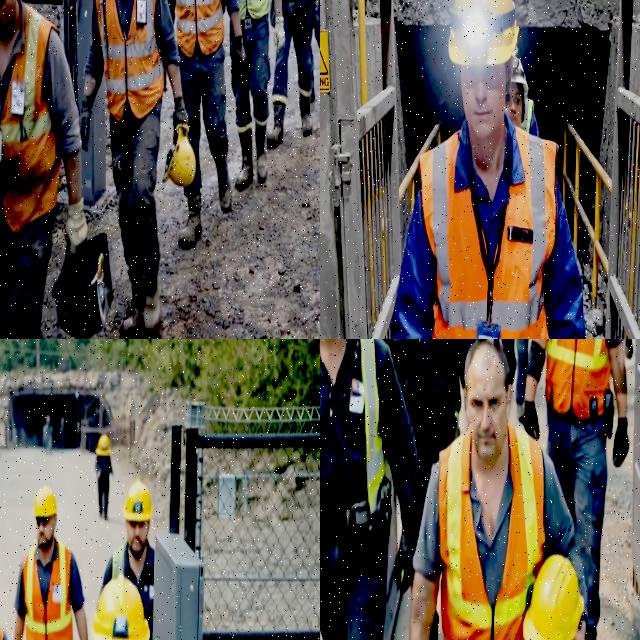Vest: (438, 424, 544, 639), (0, 3, 60, 233), (492, 129, 556, 338), (95, 0, 163, 121), (546, 339, 609, 419), (23, 541, 72, 639), (360, 339, 386, 513), (175, 0, 223, 57), (238, 0, 268, 19), (0, 626, 3, 639), (290, 0, 294, 0)
Worker: (392, 0, 585, 338), (409, 340, 585, 639), (81, 0, 187, 338), (523, 339, 629, 639), (320, 339, 419, 639), (0, 0, 87, 338), (168, 0, 245, 247), (384, 339, 472, 512), (14, 486, 87, 639), (101, 480, 154, 630), (231, 0, 270, 190), (268, 0, 318, 147), (93, 576, 150, 639), (502, 339, 529, 416), (95, 434, 113, 520), (310, 47, 314, 103), (626, 339, 633, 359), (0, 626, 7, 639), (493, 339, 499, 343), (626, 339, 626, 343)
helmet: (523, 555, 583, 639), (449, 0, 518, 65), (93, 575, 150, 639), (162, 125, 195, 187), (123, 480, 152, 521), (34, 486, 57, 517), (96, 434, 110, 456)
